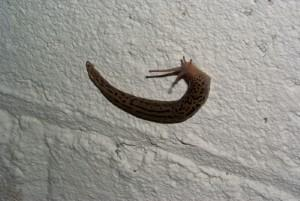slug: (60, 53, 229, 133)
